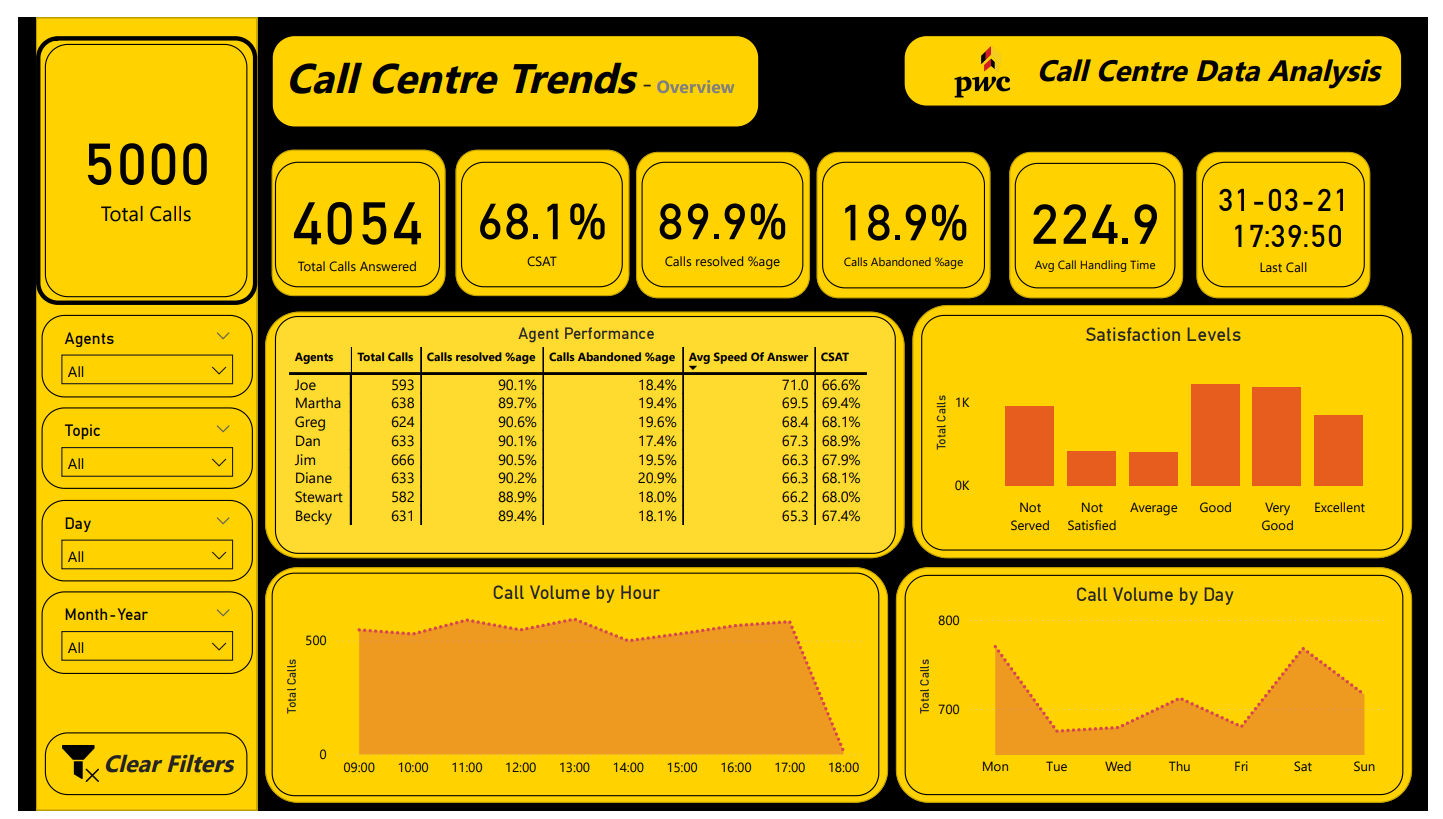

This screenshot's page, from the dashboard's own definition file:
{"tool":"powerbi","page":{"name":"DASHBOARD","canvas":[1280,720],"ordinal":0},"visuals":[{"type":"shape","box":[229.8,120.3,158,132.9],"z":0},{"type":"slicer","fields":{"Values":["Calls.Agents"]},"box":[20.6,270.2,192.1,74.5],"z":0,"group":"g1"},{"type":"shape","box":[396.8,120.3,158,132.9],"z":1000},{"type":"slicer","fields":{"Values":["Calls.Topic"]},"box":[20.6,354,192.1,74.5],"z":1000,"group":"g1"},{"type":"shape","box":[725.4,122.1,158,132.9],"z":2000},{"type":"slicer","fields":{"Values":["Calls.Month-Year"]},"box":[20.6,521.6,192.1,74.5],"z":2000,"group":"g1"},{"type":"shape","box":[561.1,122.1,158,132.9],"z":3000},{"type":"slicer","fields":{"Values":["Calls.Day"]},"box":[20.6,437.8,192.1,74.5],"z":3000,"group":"g1"},{"type":"shape","box":[899.6,122.1,158,132.9],"z":4000},{"type":"card","fields":{"Values":["measures table.Calls resolved %age"]},"box":[566.5,131.1,146.3,114],"z":5000},{"type":"card","fields":{"Values":["measures table.Calls Abandoned %age"]},"box":[729.9,130.7,148.3,114.9],"z":6000},{"type":"card","fields":{"Values":["measures table.AvgCallHandlingTime"]},"box":[904.9,132,146.3,114],"z":7000},{"type":"card","fields":{"Values":["measures table.Total Calls Answered"]},"box":[233.4,131.1,149.9,114],"z":8000},{"type":"card","fields":{"Values":["measures table.CSAT"]},"box":[402.2,131.1,147.2,114],"z":9000},{"type":"shape","box":[224.4,266.6,580.8,224.4],"z":10000},{"type":"shape","box":[812.5,261.2,453.4,229.8],"z":11000},{"type":"shape","box":[223.5,499.2,566.5,213.7],"z":12000},{"type":"shape","box":[797.2,499.2,468.6,213.7],"z":13000},{"type":"pivotTable","title":"Agent Performance","fields":{"Rows":["Calls.agent"],"Values":["measures table.total calls","measures table.Calls resolved %age","measures table.Calls Abandoned %age","measures table.Avg Speed Of Answer","measures table.CSAT"]},"box":[232.5,271.1,564.7,215.5],"z":14000},{"type":"lineChart","title":"Call Volume by Hour","fields":{"Category":["Calls.Hour"],"Y":["measures table.total calls"]},"box":[229.9,503.9,552.1,203.3],"z":15000},{"type":"lineChart","title":"Call Volume by Day","fields":{"Category":["Calls.Day"],"Y":["measures table.total calls"]},"box":[805.3,506.3,452.5,199.3],"z":16000},{"type":"clusteredColumnChart","title":"Satisfaction Levels","fields":{"Y":["measures table.total calls"],"Category":["Calls.Satisfaction Levels"]},"box":[819.7,270.2,438.1,213.7],"z":17000},{"type":"textbox","box":[229.8,16.2,443.5,83.5],"z":18000},{"type":"textbox","box":[804.4,16.2,452.5,64.6],"z":19000},{"type":"image","box":[839.4,16.2,88,61.9],"z":20000},{"type":"shape","box":[1070.1,122.1,158,132.9],"z":21000},{"type":"card","fields":{"Values":["measures table.Last Call"]},"box":[1074.6,131.1,148.1,114],"z":22000},{"type":"shape","box":[16.2,0,201.1,720],"z":23000},{"type":"shape","box":[16.2,17.1,201.1,244.2],"z":24000},{"type":"card","fields":{"Values":["measures table.total calls"]},"box":[24.2,24.2,184,229.8],"z":25000},{"type":"group","id":"g1","title":"Group 1","box":[20.6,270.2,192.1,325.9],"z":26000},{"type":"textbox","box":[24.2,649.1,184,56.6],"z":27000},{"type":"image","box":[33.4,656.2,46.2,43.2],"z":28000}]}

Visuals, with their boxes in screenshot pixels (x1, y1, x2, y2), scaled from the page's 1280x720 canvas onto the 1443x819 screenshot:
shape: 259 137 437 288
slicer - Calls.Agents: 23 307 240 392
shape: 447 137 625 288
slicer - Calls.Topic: 23 403 240 487
shape: 818 139 996 290
slicer - Calls.Month-Year: 23 593 240 678
shape: 633 139 811 290
slicer - Calls.Day: 23 498 240 583
shape: 1014 139 1192 290
card - measures table.Calls resolved %age: 639 149 804 279
card - measures table.Calls Abandoned %age: 823 149 990 279
card - measures table.AvgCallHandlingTime: 1020 150 1185 280
card - measures table.Total Calls Answered: 263 149 432 279
card - measures table.CSAT: 453 149 619 279
shape: 253 303 908 559
shape: 916 297 1427 559
shape: 252 568 891 811
shape: 899 568 1427 811
"Agent Performance" pivotTable: 262 308 899 554
"Call Volume by Hour" lineChart: 259 573 882 804
"Call Volume by Day" lineChart: 908 576 1418 803
"Satisfaction Levels" clusteredColumnChart: 924 307 1418 550
textbox: 259 18 759 113
textbox: 907 18 1417 92
image: 946 18 1045 89
shape: 1206 139 1384 290
card - measures table.Last Call: 1211 149 1378 279
shape: 18 0 245 818
shape: 18 19 245 297
card - measures table.total calls: 27 28 235 289
"Group 1" group: 23 307 240 678
textbox: 27 738 235 803
image: 38 746 90 796
